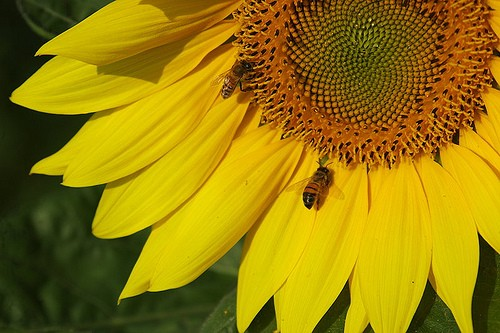flower: (11, 0, 500, 333)
